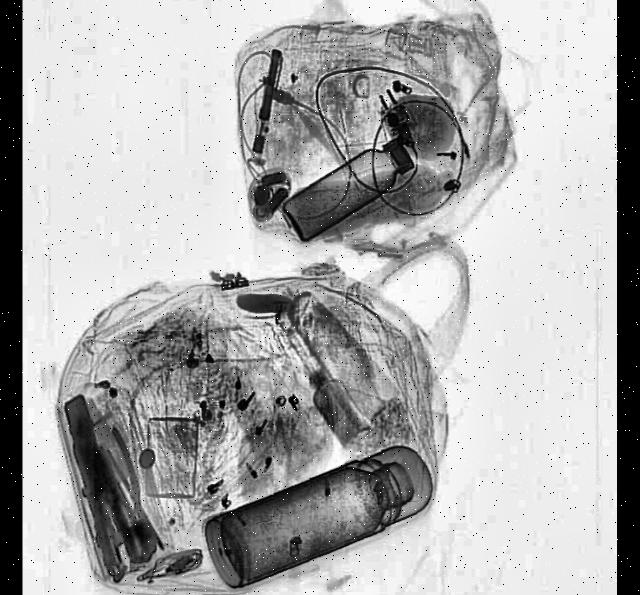Pliers: (64, 422, 144, 576), (96, 423, 165, 560)
